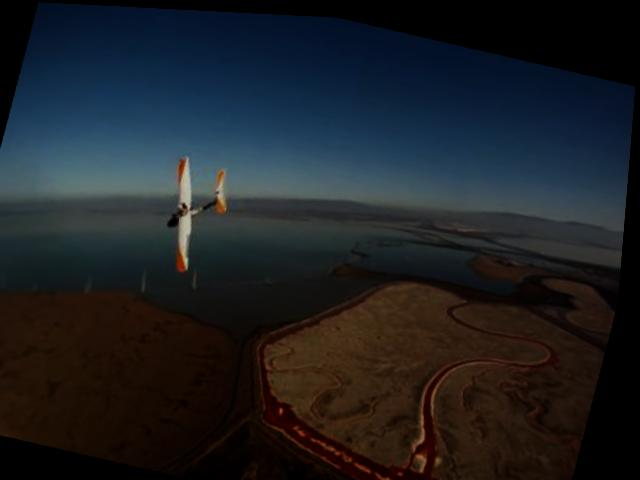uav: (141, 143, 243, 284)
